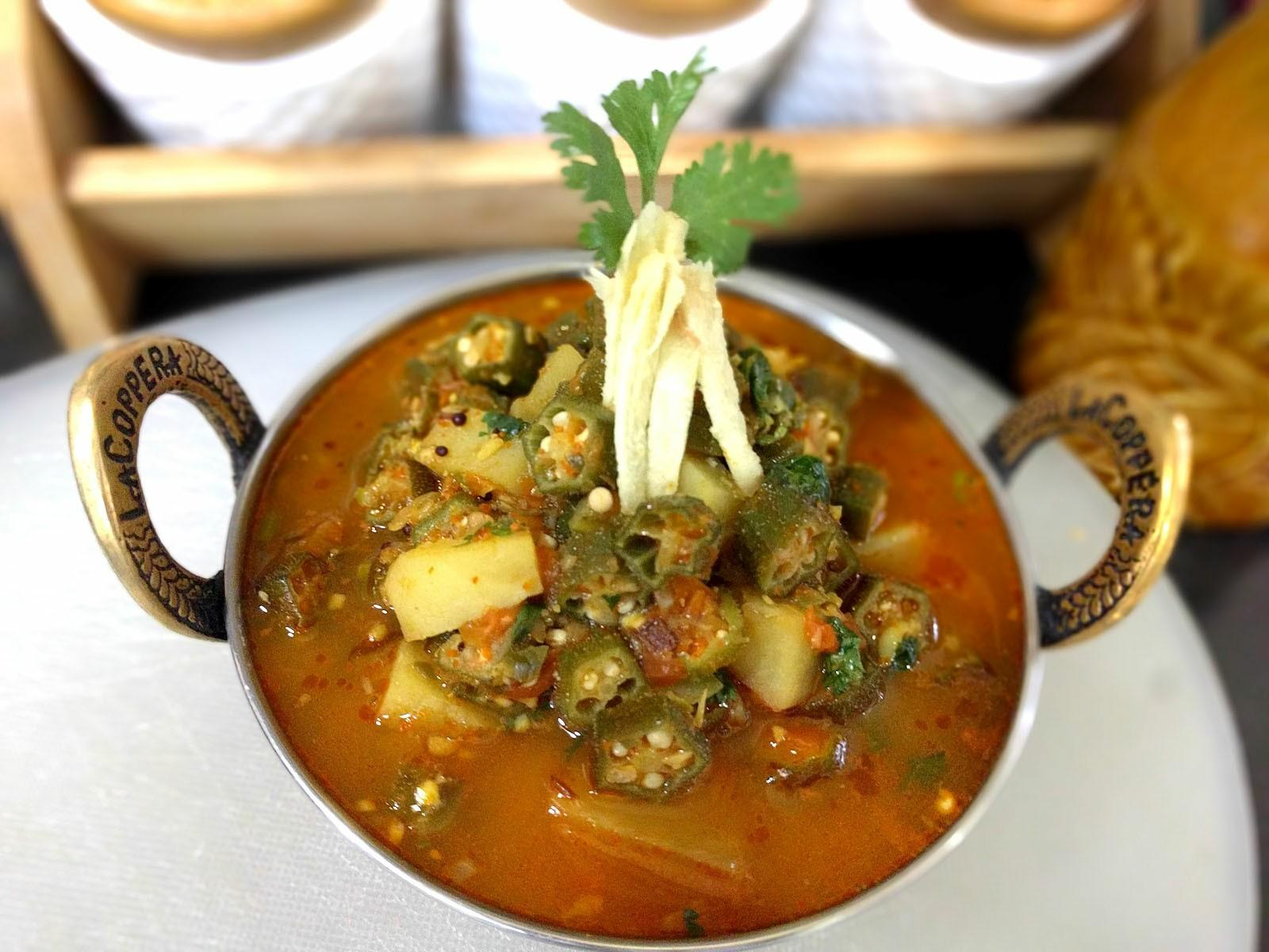BhindiMasala: (240, 283, 1027, 946)
